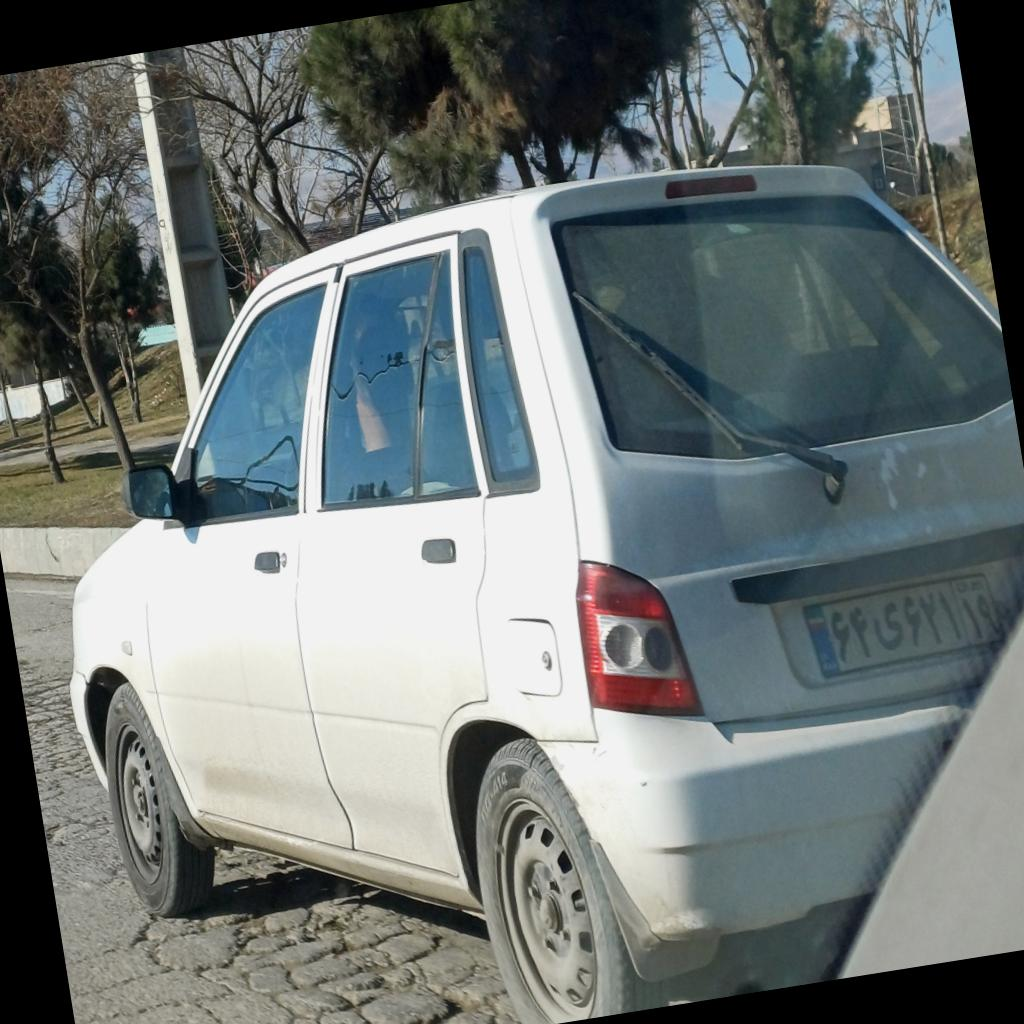Plates: (800, 568, 1010, 682)
